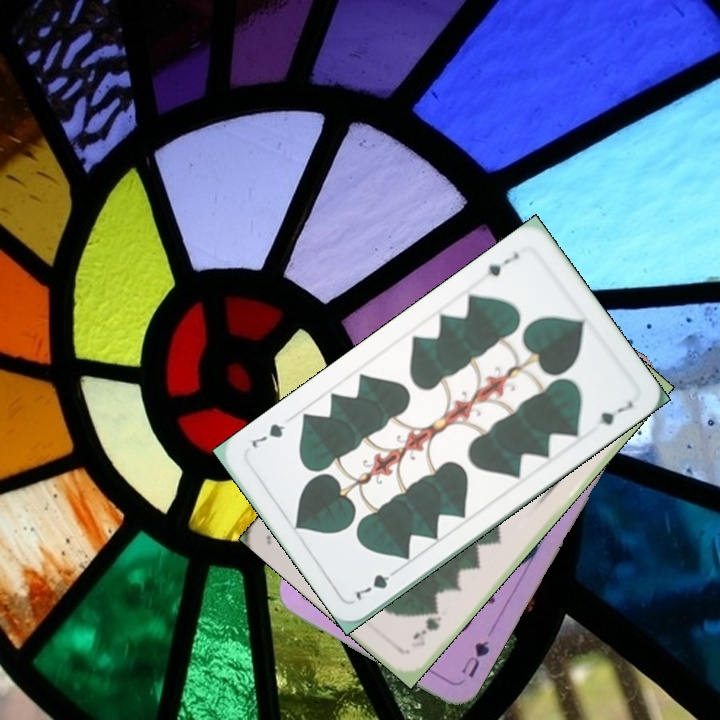G7: (351, 563, 403, 604), (483, 248, 521, 280)
G9: (409, 607, 445, 642)
GU: (457, 636, 492, 681)
